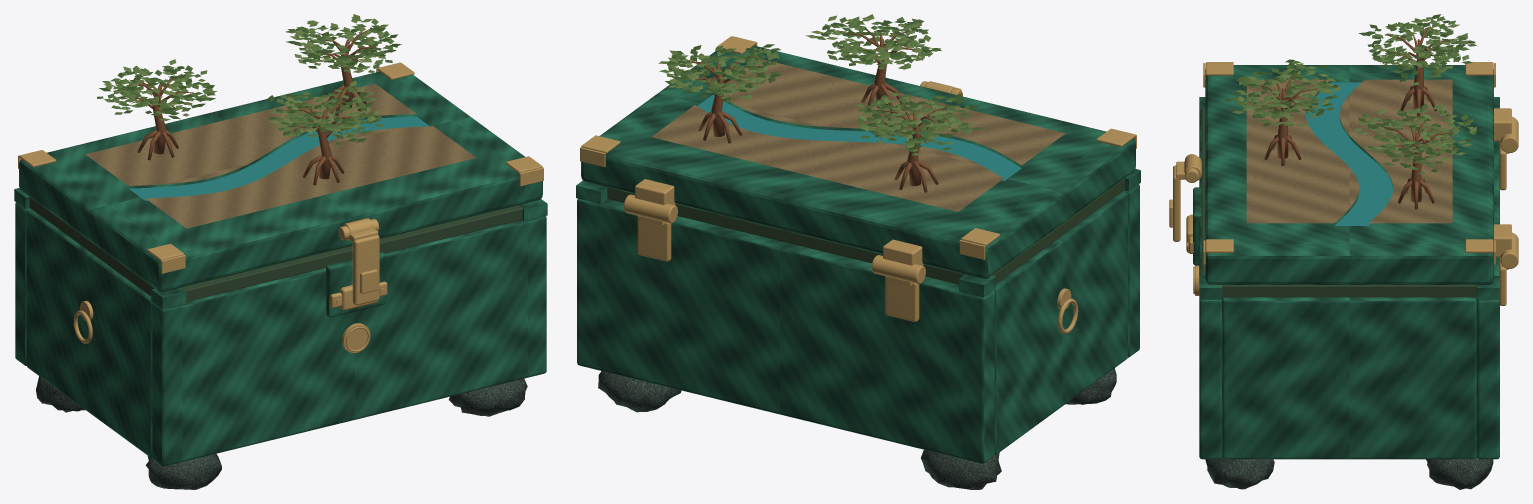
The model's file is panama.glb.
3 renders of one model, left to right at view 1: azimuth 30°, elevation 25°; view 2: azimuth 150°, elevation 25°; view 3: azimuth 270°, elevation 25°, orthographic. The views are drawn at different scales.
Parts seen in each view (by area): view 1: Jade / front, Lid / polished slab, Jade / side, Bank / south, Bank / north, Mineral seam / long, Tide / continuous inlet, Mangrove / foliage 3, Mangrove / foliage 1, Mangrove / foliage 2, Mangrove / foliage 0, Granite foot (+8 smaller); view 2: Jade / rear, Lid / polished slab, Jade / side, Bank / north, Bank / south, Tide / continuous inlet, Mangrove / foliage 3, Mangrove / foliage 1, Mangrove / foliage 2, Mineral seam / long.001, Mangrove / foliage 0, Granite foot.001 (+11 smaller); view 3: Jade / side.001, Lid / polished slab, Bank / south, Bank / north, Tide / continuous inlet, Jade / rear, Jade / front, Mineral seam / side.001, Mangrove / foliage 3, Mangrove / foliage 1, Mangrove / foliage 2, Mangrove / foliage 0 (+17 smaller).
Part boxes in pixels (left/top/right/bottom): Jade / front: left=152, top=216, right=546, bottom=466; Lid / polished slab: left=19, top=71, right=542, bottom=291; Jade / side: left=26, top=209, right=152, bottom=457; Bank / south: left=146, top=126, right=476, bottom=228; Bank / north: left=85, top=83, right=416, bottom=185; Mineral seam / long: left=181, top=205, right=522, bottom=301; Tide / continuous inlet: left=129, top=116, right=429, bottom=200; Mangrove / foliage 3: left=103, top=18, right=385, bottom=136; Mangrove / foliage 1: left=97, top=24, right=393, bottom=145; Mangrove / foliage 2: left=102, top=14, right=394, bottom=138; Mangrove / foliage 0: left=99, top=25, right=401, bottom=142; Granite foot: left=146, top=454, right=221, bottom=489; Jade / rear: left=577, top=198, right=994, bottom=463; Lid / polished slab: left=581, top=45, right=1135, bottom=278; Jade / side: left=994, top=191, right=1127, bottom=454; Bank / north: left=651, top=105, right=1003, bottom=211; Bank / south: left=723, top=58, right=1065, bottom=165; Tide / continuous inlet: left=697, top=95, right=1021, bottom=180; Mangrove / foliage 3: left=668, top=15, right=974, bottom=150; Mangrove / foliage 1: left=670, top=17, right=982, bottom=152; Mangrove / foliage 2: left=658, top=14, right=972, bottom=155; Mineral seam / long.001: left=607, top=187, right=964, bottom=284; Mangrove / foliage 0: left=665, top=20, right=978, bottom=150; Granite foot.001: left=921, top=450, right=1001, bottom=489; Jade / side.001: left=1222, top=297, right=1476, bottom=459; Lid / polished slab: left=1205, top=65, right=1493, bottom=284; Bank / south: left=1246, top=79, right=1359, bottom=223; Bank / north: left=1340, top=79, right=1452, bottom=223; Tide / continuous inlet: left=1306, top=82, right=1392, bottom=225; Jade / rear: left=1477, top=141, right=1499, bottom=459; Jade / front: left=1199, top=121, right=1222, bottom=459; Mineral seam / side.001: left=1222, top=285, right=1476, bottom=297; Mangrove / foliage 3: left=1237, top=16, right=1476, bottom=162; Mangrove / foliage 1: left=1231, top=18, right=1474, bottom=169; Mangrove / foliage 2: left=1232, top=17, right=1476, bottom=174; Mangrove / foliage 0: left=1225, top=14, right=1477, bottom=172.
Bounding box in the file's own units: 3.79 × 3.05 × 2.88.
11 materials, 3 textured.
